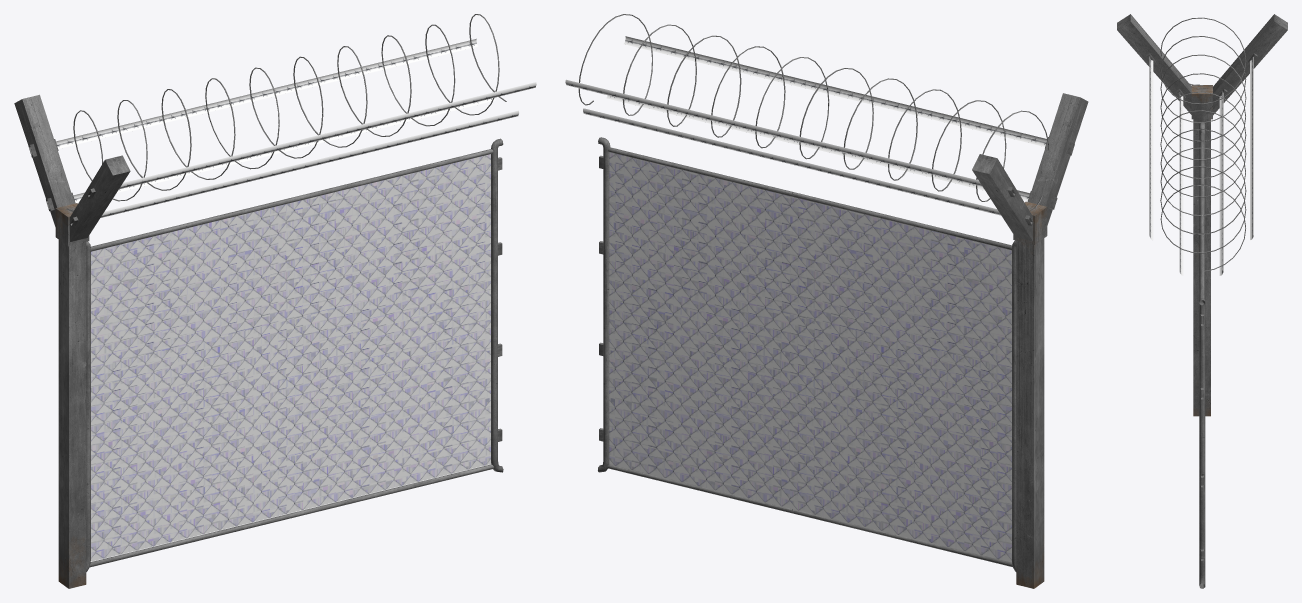
The model's file is Fence_Tilable.FBX.
The picture shows the model from 3 angles, left to right: view 1: azimuth 30°, elevation 25°; view 2: azimuth 150°, elevation 25°; view 3: azimuth 270°, elevation 25°; orthographic projection. The views are drawn at different scales.
Parts seen in each view (by area): view 1: Fence_tilable; view 2: Fence_tilable; view 3: Fence_tilable.
Part boxes in pixels (x1=…): Fence_tilable: x1=14, y1=14, x2=536, y2=588; Fence_tilable: x1=565, y1=14, x2=1088, y2=588; Fence_tilable: x1=1117, y1=14, x2=1287, y2=588.
Size of the model in its own units: 127 by 126 by 48.56.
Materials: 2 (2 with a texture image).
